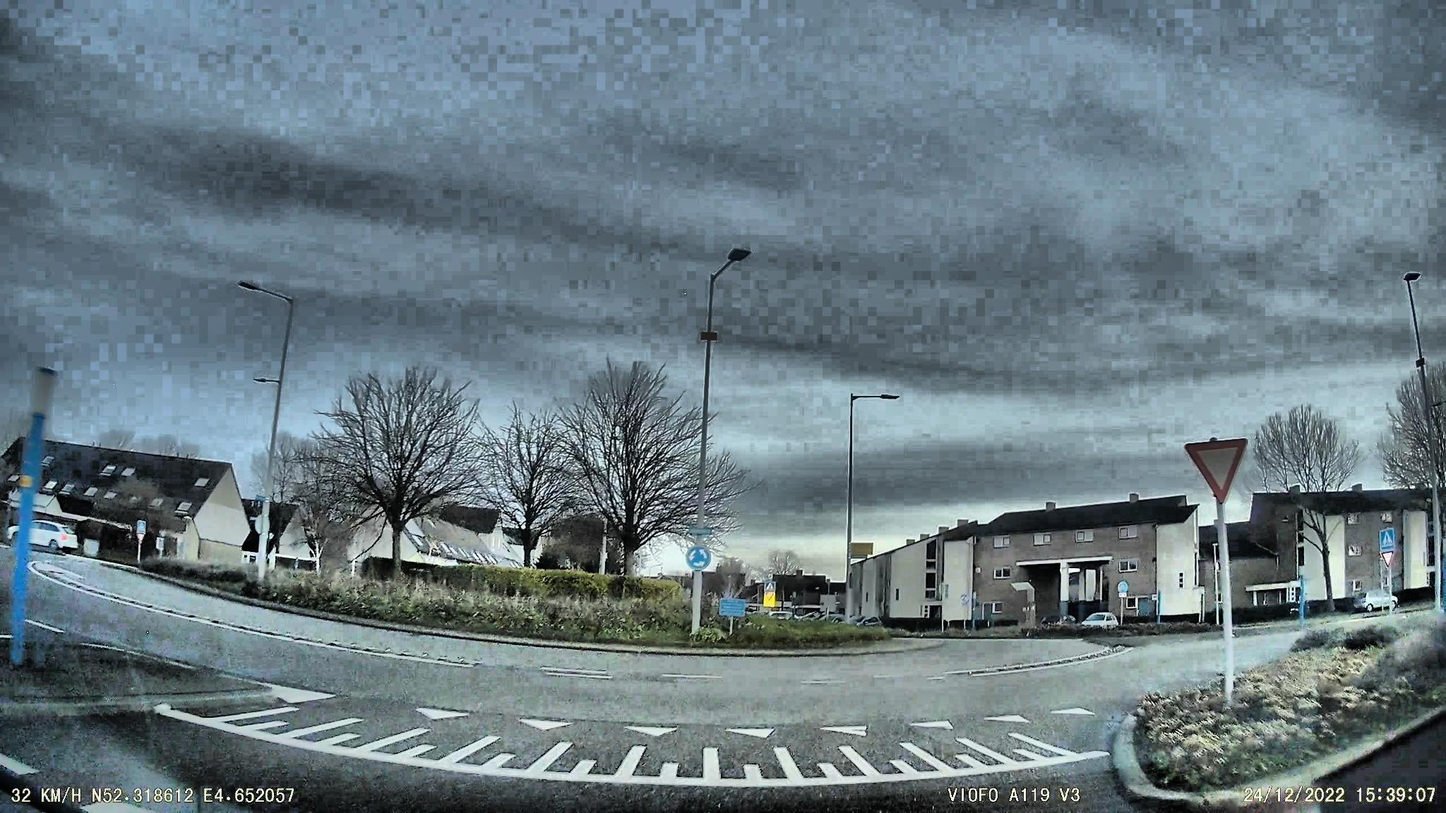Roads: (23, 557, 1239, 813)
